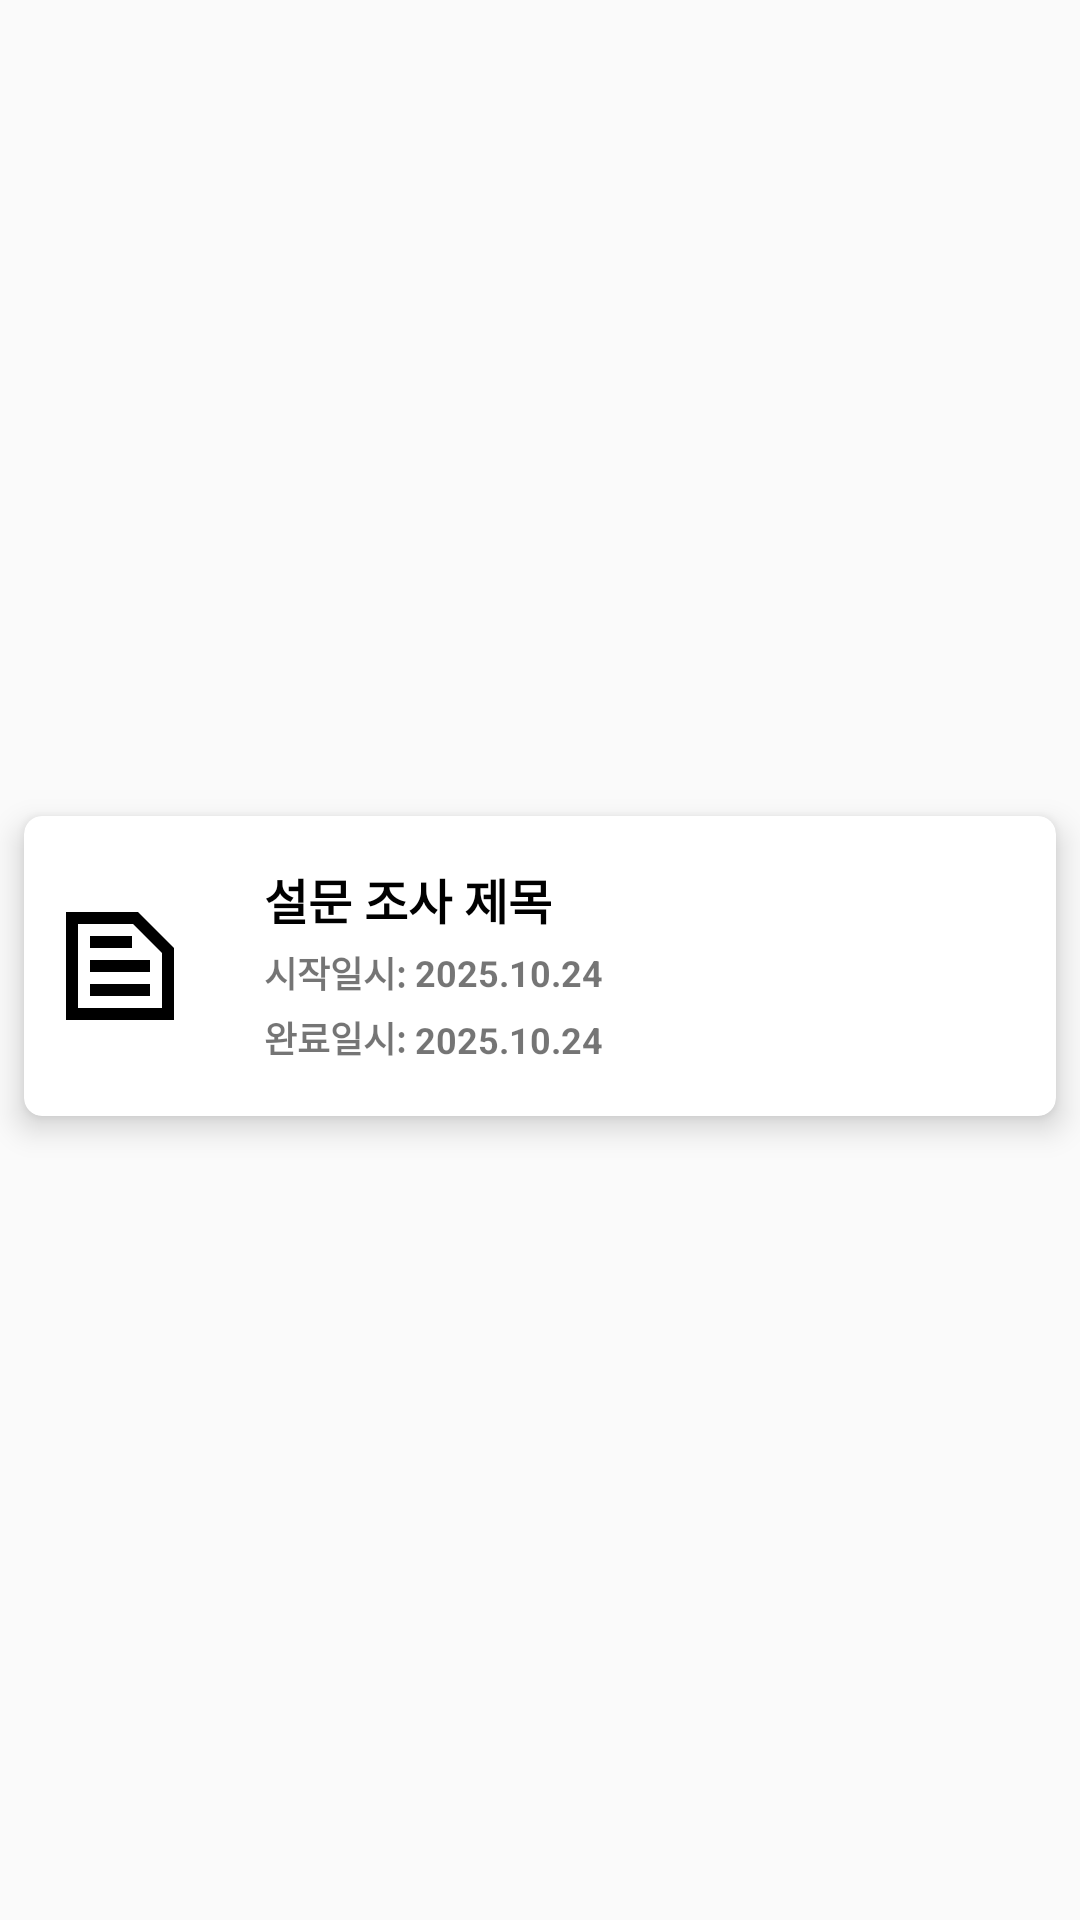

Named icons in this screenshot (1080x1920) and their bounding boxes, (x1, y1, x2, y2):
text snippet: (66, 912, 174, 1020)
